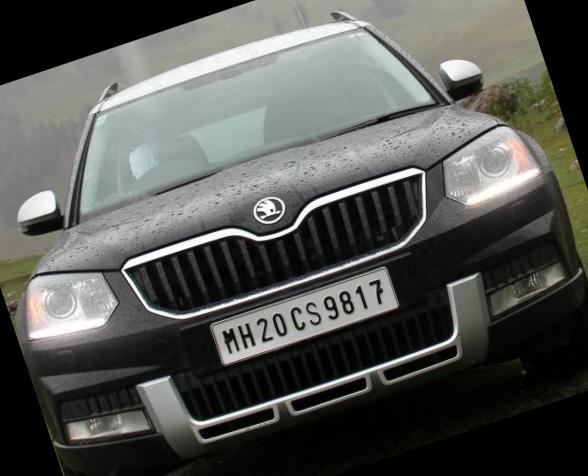plate: (199, 249, 410, 381)
